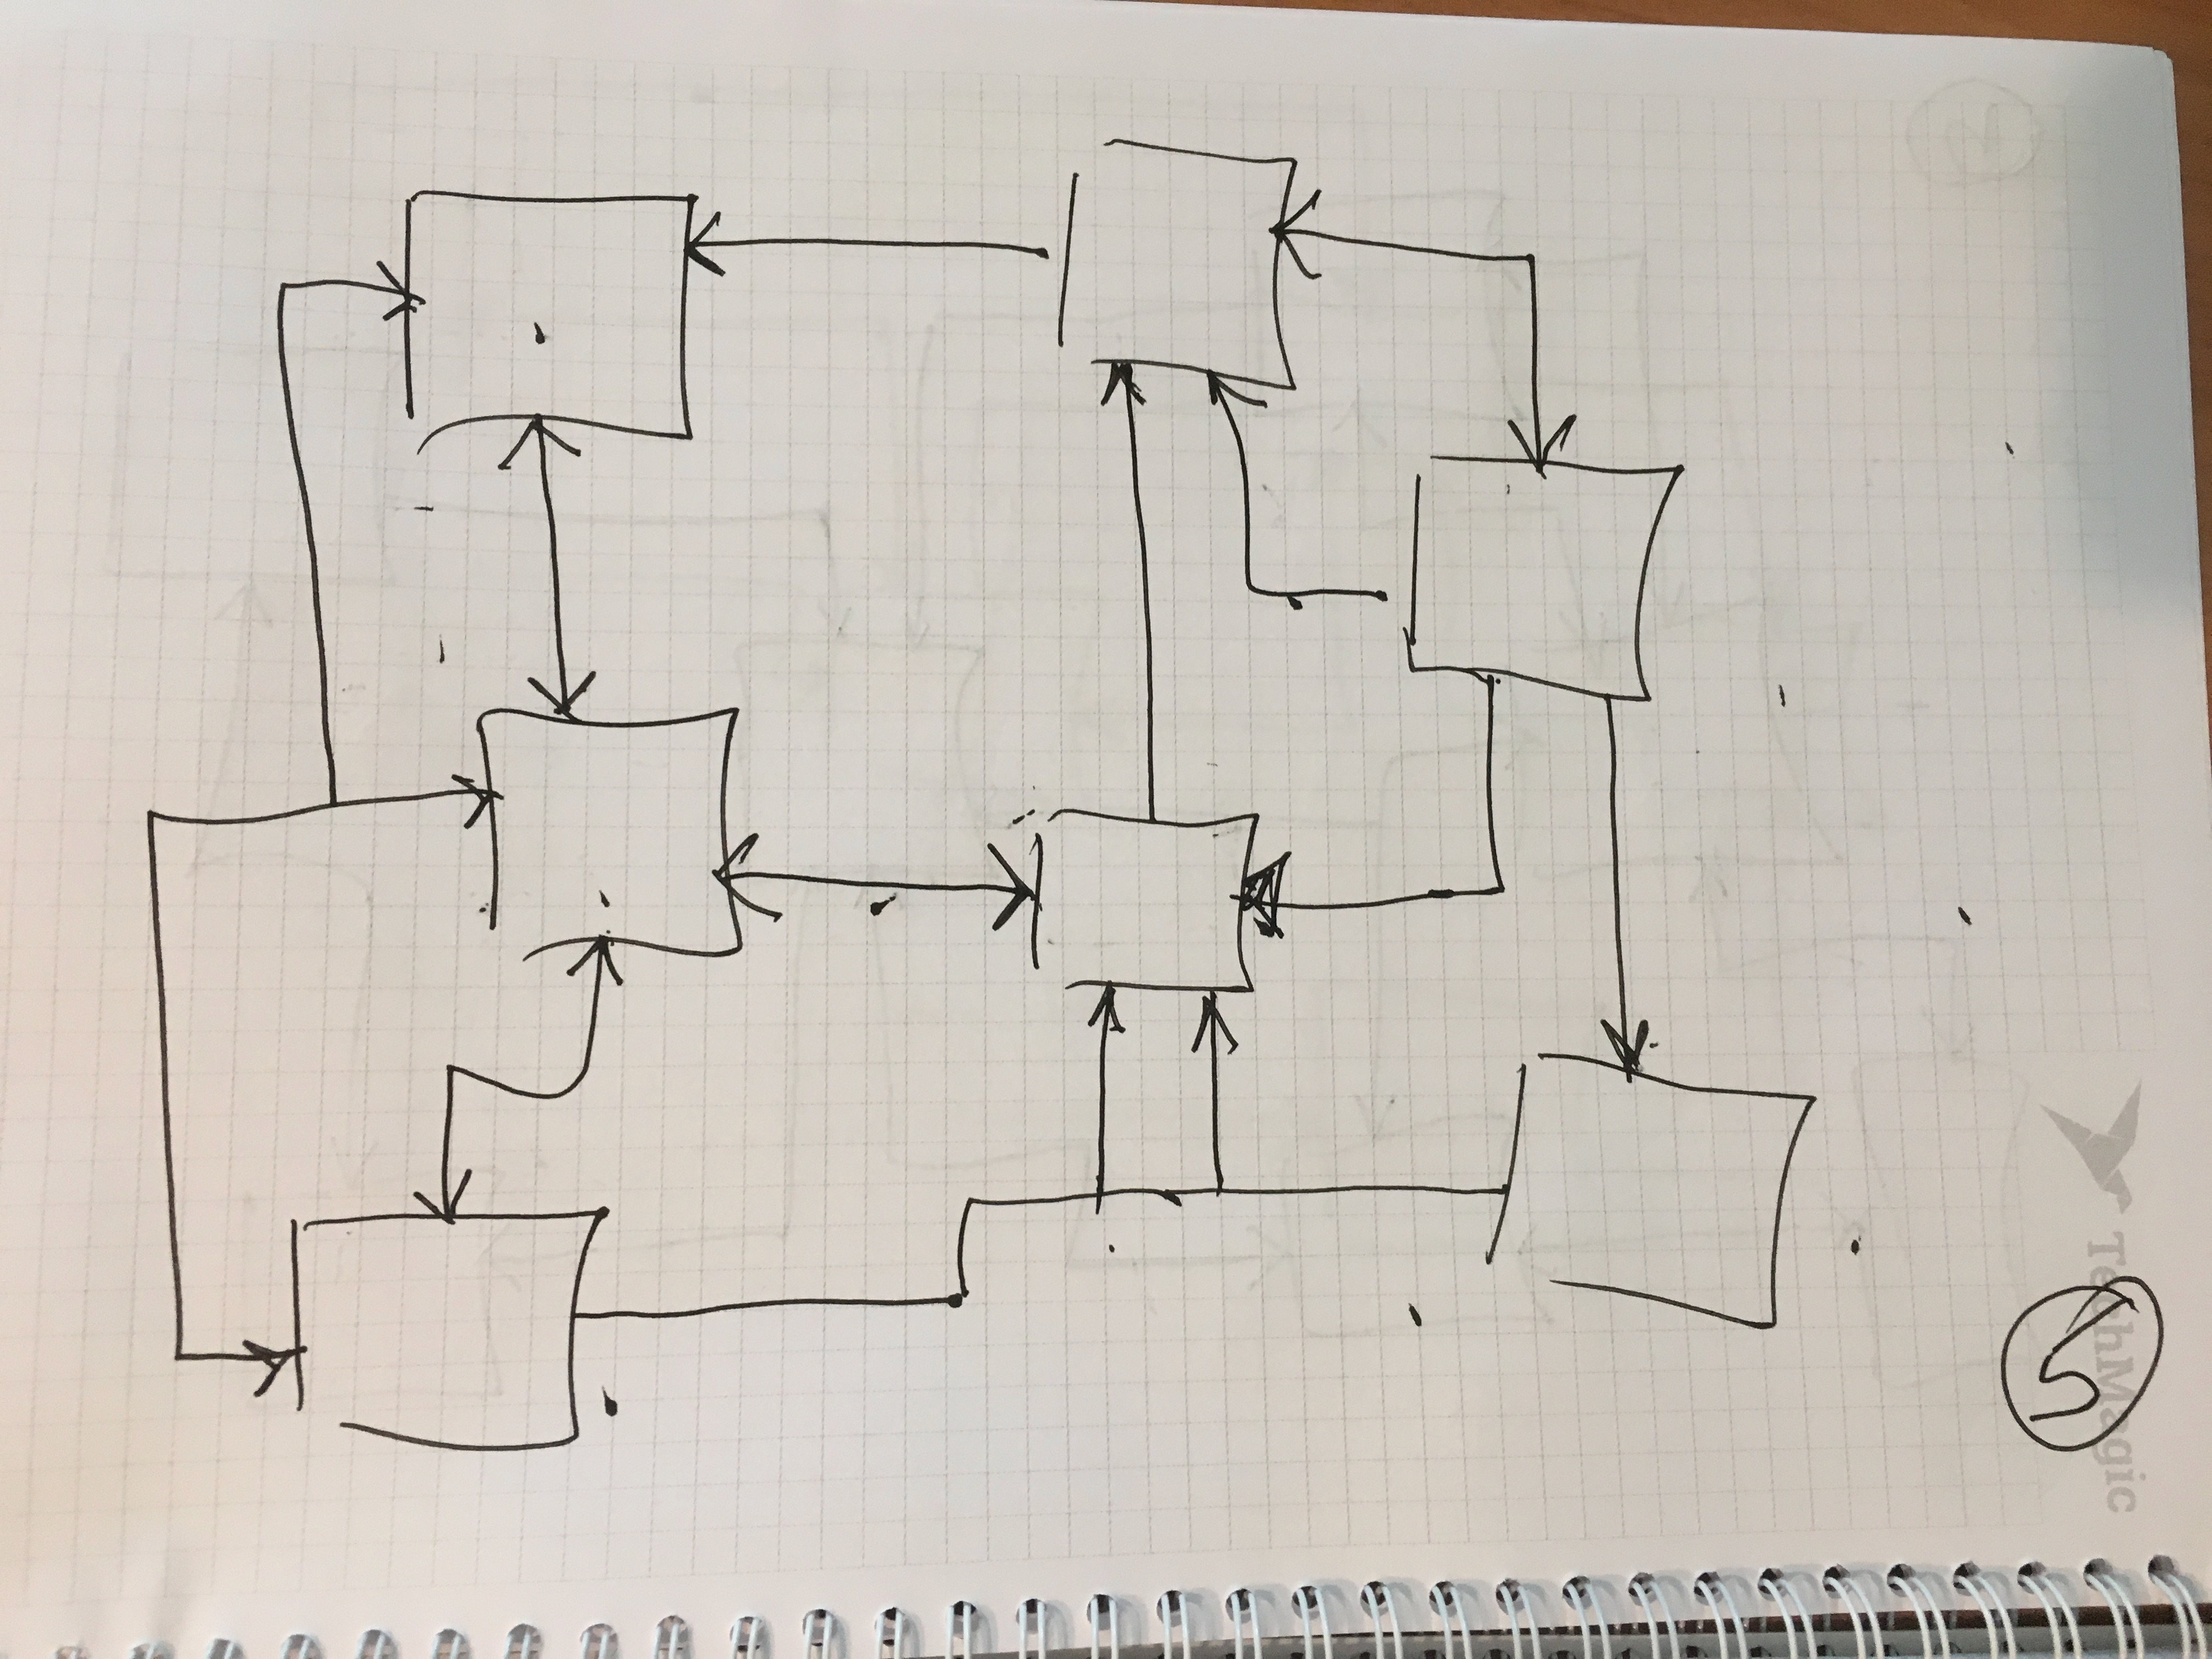arrow: (1240, 183, 1440, 281), (1212, 852, 1390, 945), (489, 380, 587, 535), (1500, 338, 1585, 498), (916, 842, 1066, 929), (683, 840, 843, 917), (1588, 974, 1669, 1112), (519, 634, 610, 748), (408, 1115, 489, 1239), (305, 261, 444, 333), (1198, 349, 1278, 472), (657, 209, 787, 282), (212, 1328, 333, 1403), (1090, 345, 1160, 465), (402, 772, 514, 836), (1071, 974, 1136, 1086), (1193, 976, 1245, 1084)
